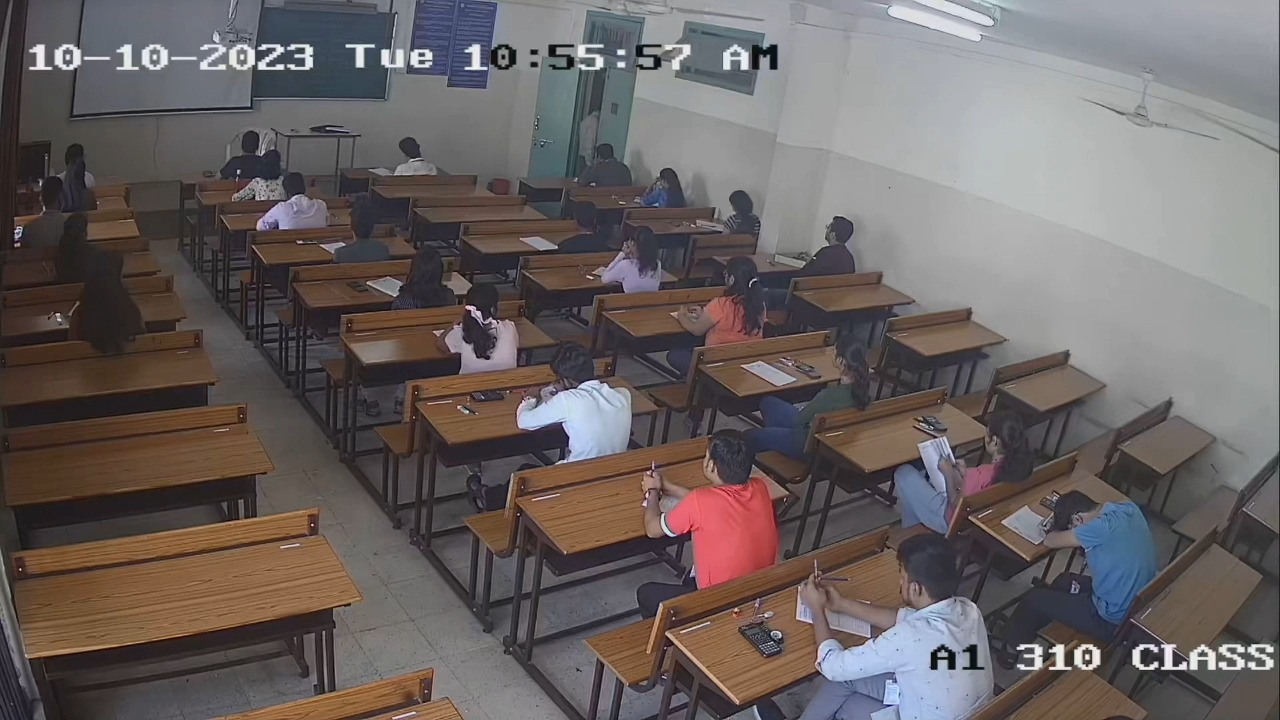cell-phones: (737, 622, 784, 660), (794, 359, 824, 383), (466, 388, 505, 404), (920, 412, 947, 435), (345, 276, 367, 293)
person: (802, 530, 993, 716), (516, 344, 634, 470), (943, 409, 1032, 496), (790, 334, 873, 410), (386, 245, 461, 313)
